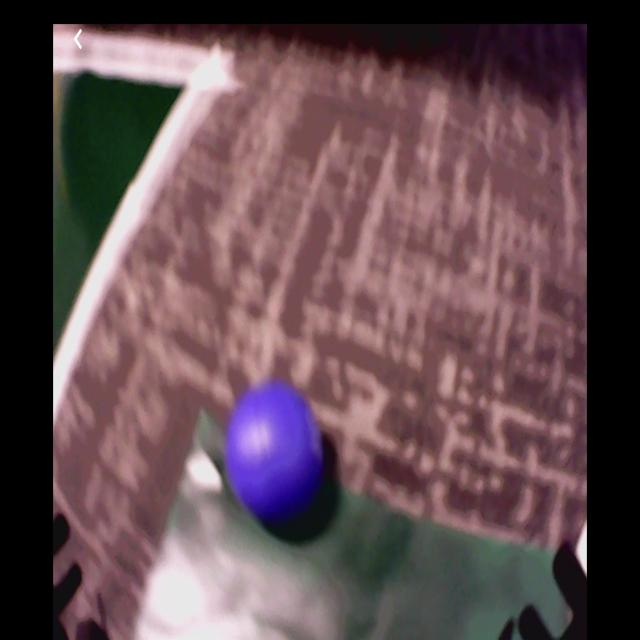ball: (229, 385, 323, 523)
